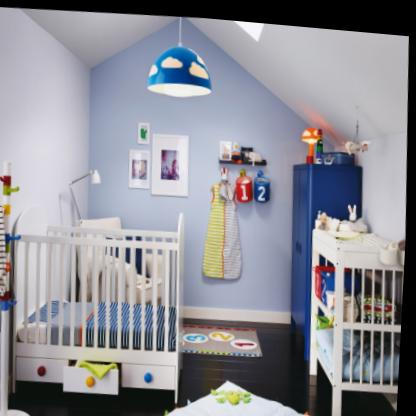Bed: (6, 195, 196, 410)
